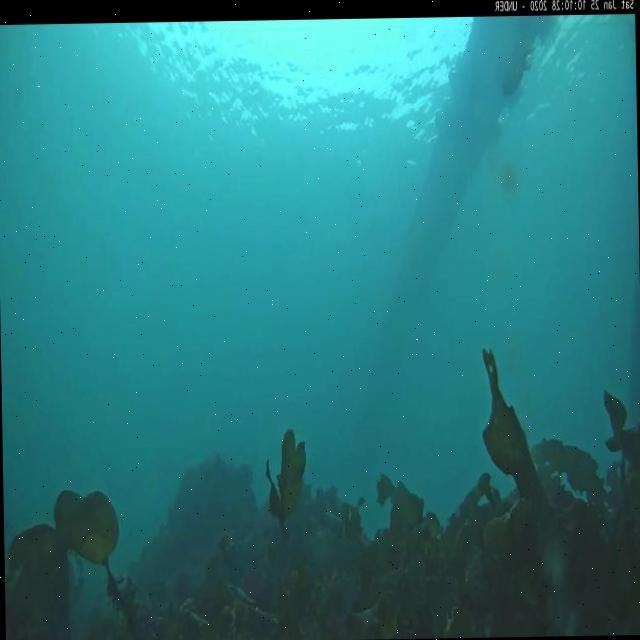fish: (500, 38, 536, 100)
